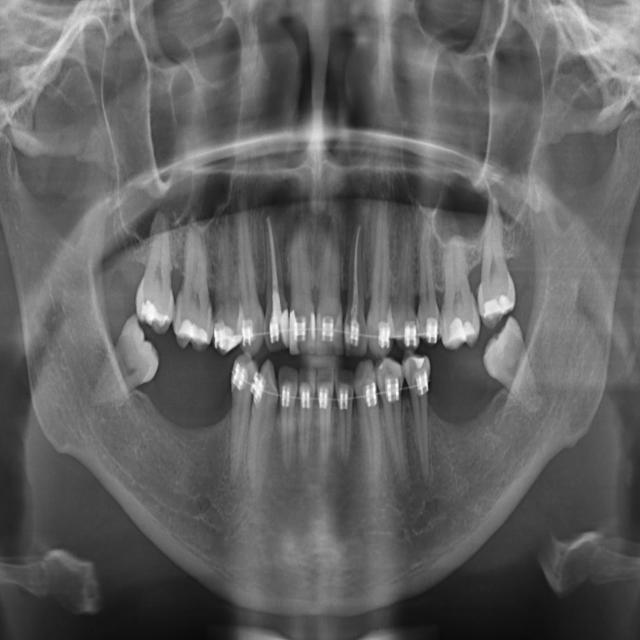AGS Medikal Implant: (347, 232, 374, 351)
AMerOss Implant: (368, 229, 400, 352)
Amalgam filling: (388, 233, 421, 351)
Anthogyr Implant: (411, 210, 443, 342)
Bicon Implant: (424, 231, 489, 348)
BioHorizons Implant: (477, 193, 518, 321)
Biomet 3i Implant: (477, 318, 545, 415)
Caries: (134, 215, 174, 326)
Composite filling: (406, 357, 431, 473)
Cowellmedi Implant: (377, 364, 418, 495)
Crown: (358, 367, 386, 467)
DENTSPLY Implant: (338, 379, 358, 470)
Dentatus Implant: (310, 378, 338, 487)
Dentis Implant: (291, 377, 318, 470)
Dentium Implant: (274, 372, 298, 460)
Euroteknika Implant: (244, 363, 284, 483)
Filling: (232, 355, 254, 469)
Hiossen Implant: (172, 223, 211, 343)
Keystone Dental Implant: (84, 312, 173, 420)
Mandible: (210, 226, 240, 353)
Maxilla: (237, 220, 264, 353)
Megagen Implant: (260, 213, 289, 348)
Neodent Implant: (287, 227, 319, 353)
Neoss Implant: (317, 239, 347, 351)
